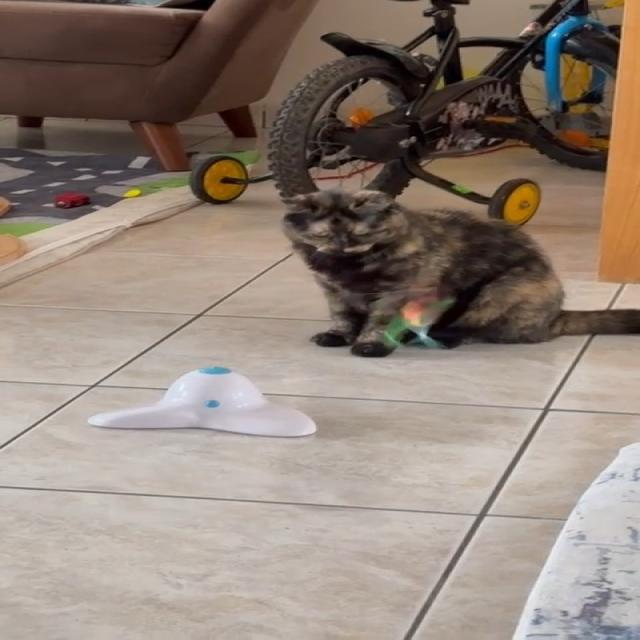authorized: (280, 186, 639, 358)
